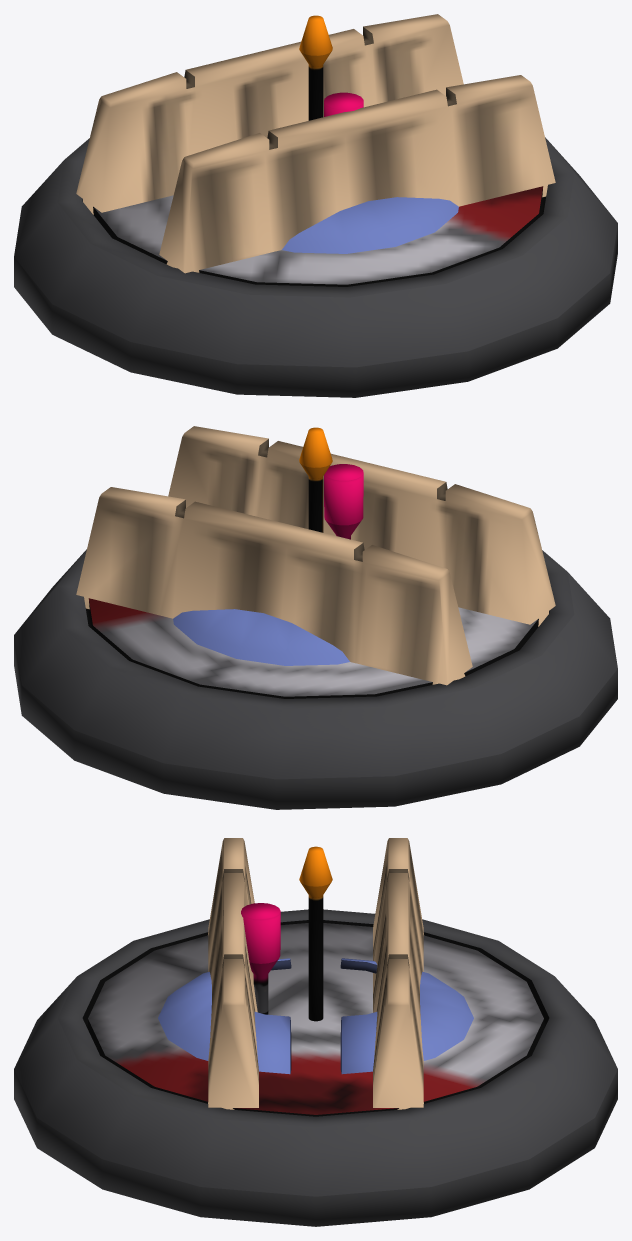
File: predmetsShip.glb
3 renders of one model, top to bottom at view 1: azimuth 30°, elevation 25°; view 2: azimuth 150°, elevation 25°; view 3: azimuth 270°, elevation 25°, orthographic.
Parts seen in each view (by area): view 1: hatch, radiator, shild, lampPostSignal1, lampPostSignal3; view 2: hatch, radiator, shild, lampPostSignal3, lampPostSignal1; view 3: hatch, radiator, shild, lampPostSignal1, lampPostSignal3.
Boxes of the visible parts, left/top/right/bottom form: hatch: left=14, top=137, right=617, bottom=397; radiator: left=76, top=14, right=555, bottom=273; shild: left=282, top=197, right=458, bottom=253; lampPostSignal1: left=299, top=15, right=332, bottom=120; lampPostSignal3: left=324, top=92, right=363, bottom=116; hatch: left=14, top=549, right=617, bottom=809; radiator: left=76, top=426, right=555, bottom=685; shild: left=173, top=609, right=349, bottom=665; lampPostSignal3: left=324, top=464, right=363, bottom=539; lampPostSignal1: left=299, top=427, right=332, bottom=532; hatch: left=14, top=909, right=617, bottom=1226; radiator: left=208, top=838, right=423, bottom=1109; shild: left=158, top=958, right=473, bottom=1074; lampPostSignal1: left=299, top=846, right=332, bottom=1021; lampPostSignal3: left=241, top=903, right=280, bottom=1014.
Size of the model in its own units: 4.72 by 2.15 by 4.72.
Materials: 1 (1 with a texture image).
